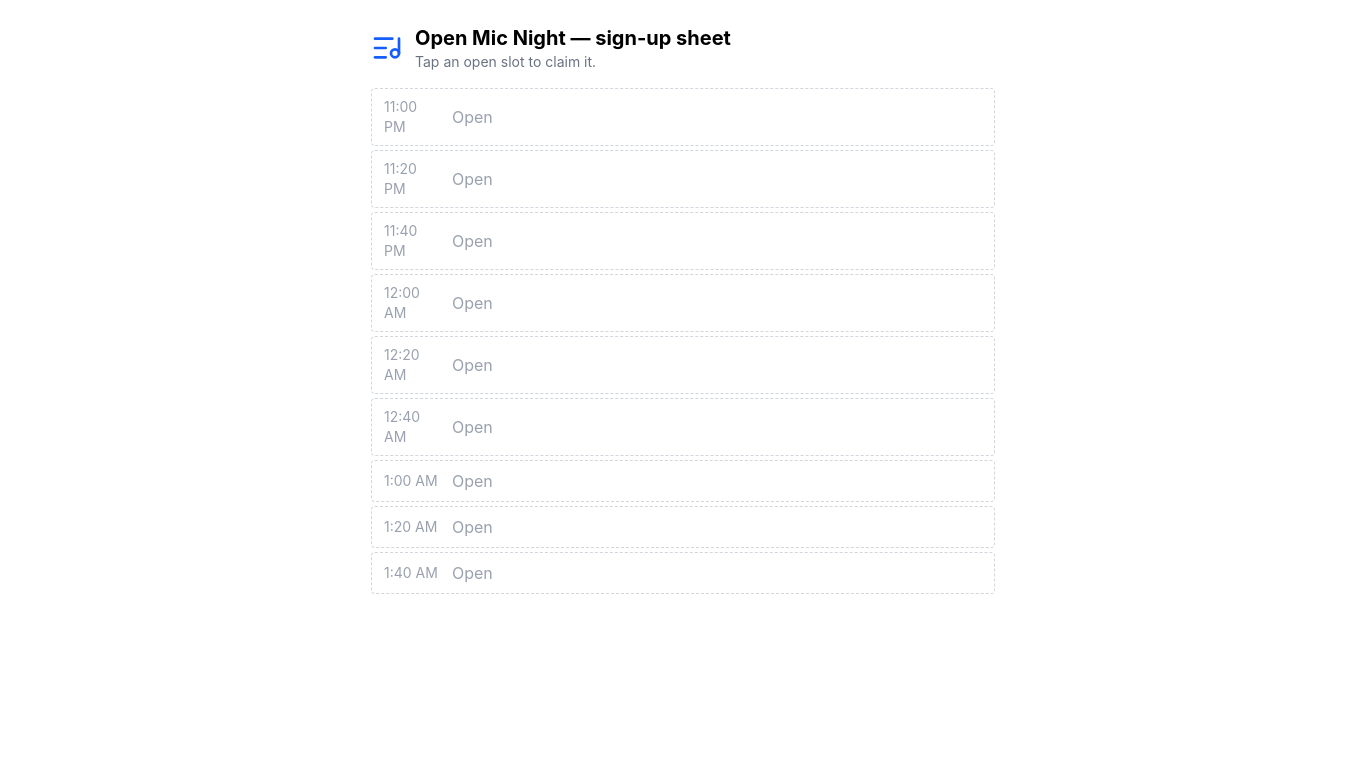
Scenario: <SignupSheet /> › surfaces the server's message when the slot is already taken
Click the button with aria-label "Sign up for the": (401, 106) [371,88,995,146]
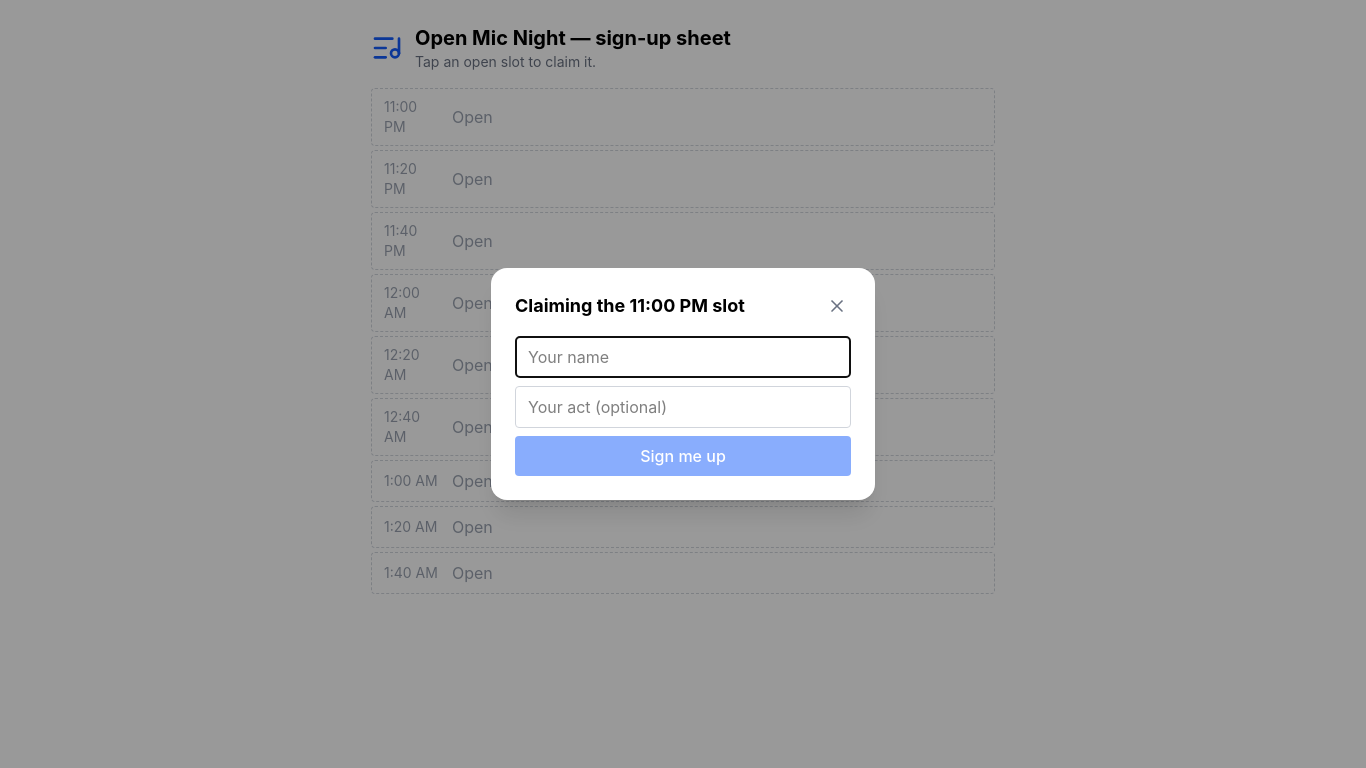
In the field labelled "Your name": (683, 357) [515,336,851,378], type "Brandon"
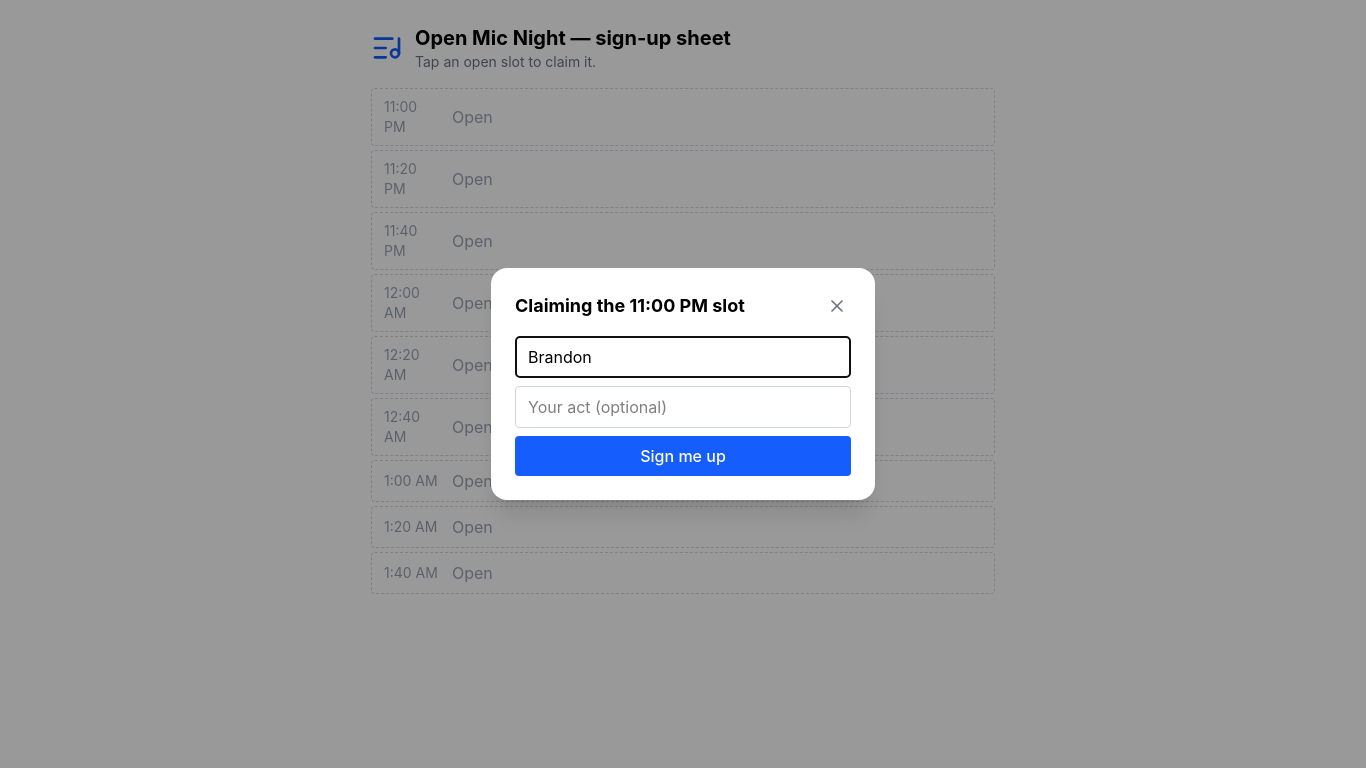
Click the button "Sign me up": (683, 456) [515,436,851,476]
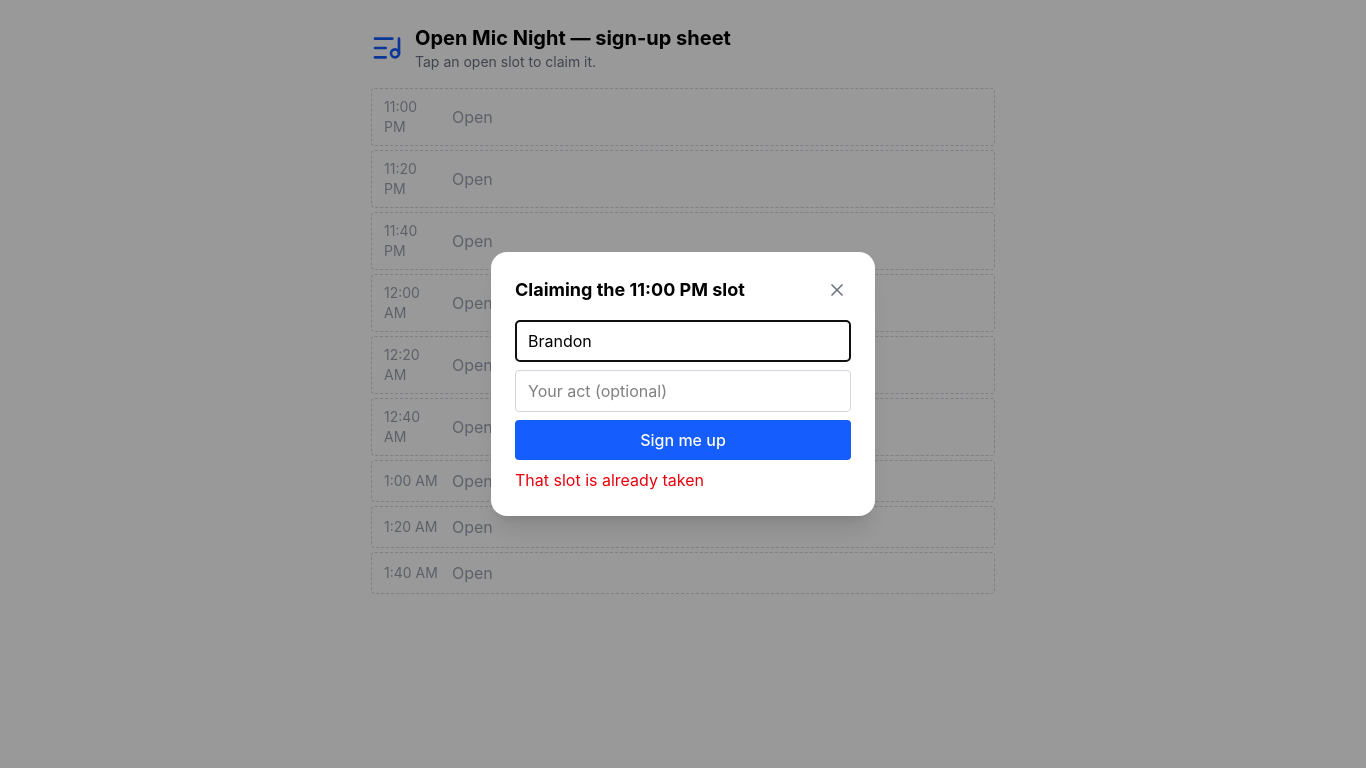
Now the text "That slot is already taken" is shown, box [515,470,704,490]
